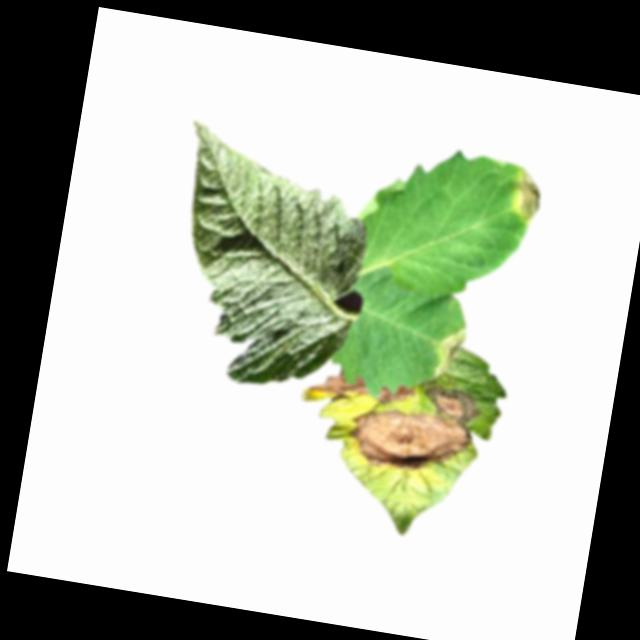Late_blight: (344, 369, 483, 479), (505, 164, 548, 229), (433, 324, 470, 381), (307, 368, 370, 400), (377, 381, 415, 408)
healthy: (152, 117, 379, 398)
